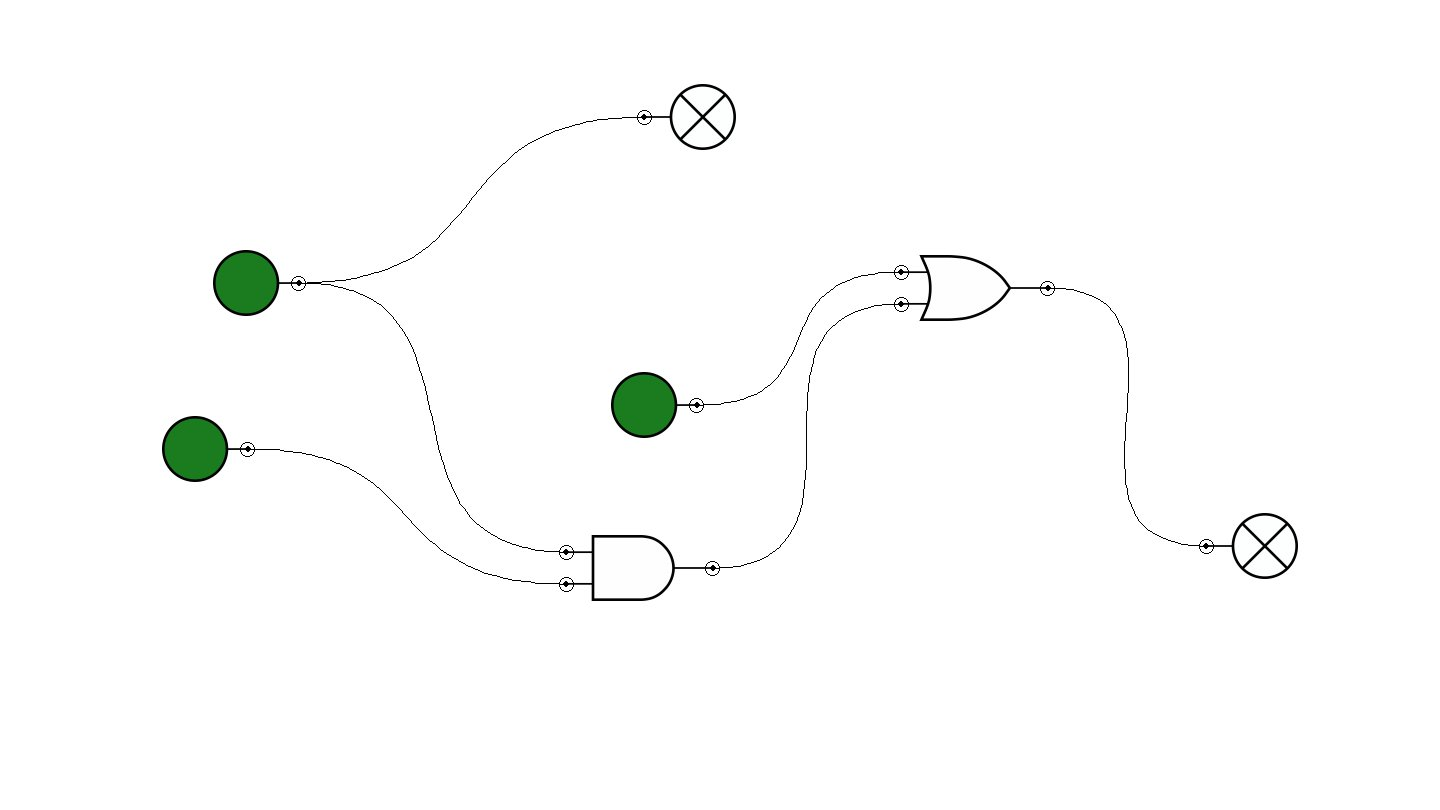and: (559, 535, 720, 601)
bulb: (1199, 513, 1298, 579), (637, 84, 736, 150)
or: (894, 255, 1055, 321)
switch_True: (162, 416, 255, 482), (213, 250, 306, 316), (611, 372, 704, 438)
